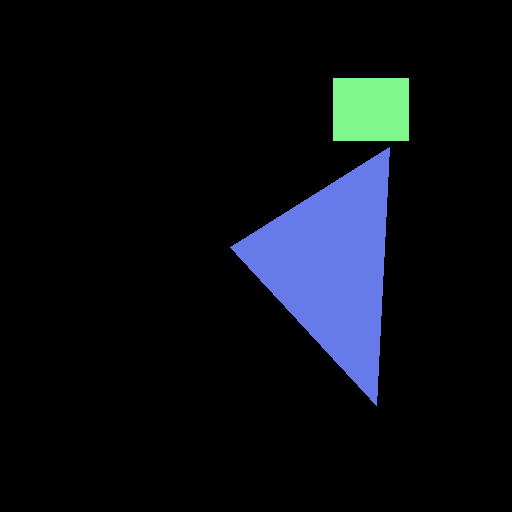rectangle: (333, 78, 408, 140)
triangle: (230, 147, 389, 405)
